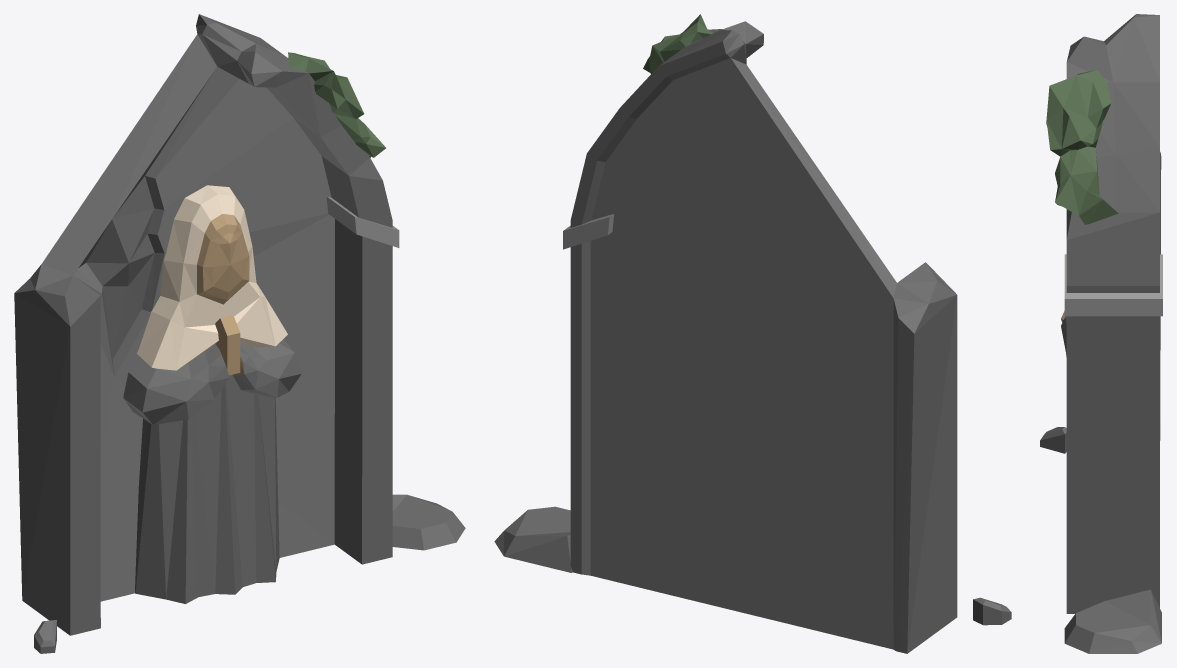
Rendered from _ruin_8.glb.
3 views of the same model, side by side, from view 1: azimuth 30°, elevation 25°; view 2: azimuth 150°, elevation 25°; view 3: azimuth 270°, elevation 25° (orthographic). The views are drawn at different scales.
Visible parts, largest first — view 1: ruin_8; view 2: ruin_8; view 3: ruin_8.
Boxes of the visible parts, bbox=[...] form: ruin_8: bbox=[14, 14, 465, 653]; ruin_8: bbox=[494, 14, 1011, 653]; ruin_8: bbox=[1040, 14, 1162, 653].
Bounding box in the file's own units: 2.61 × 3.03 × 0.6352.
1 material, 1 textured.
